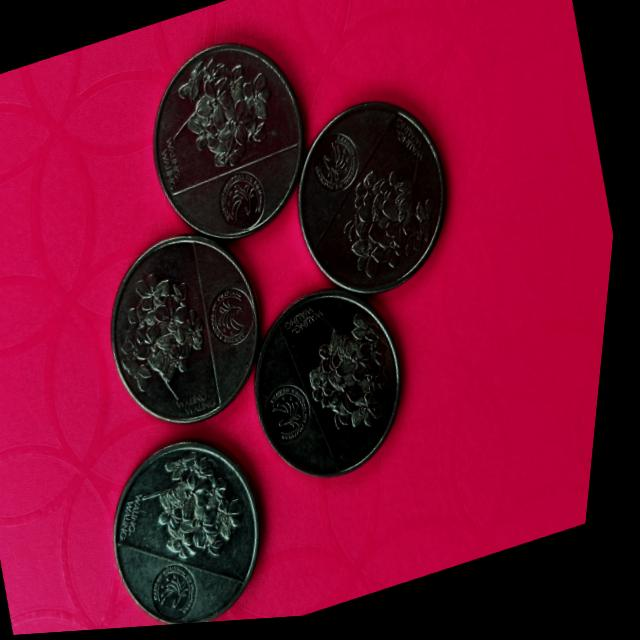1_New_Back: (146, 30, 298, 180), (111, 253, 239, 419), (291, 291, 422, 449), (140, 440, 275, 576), (331, 144, 459, 283)
